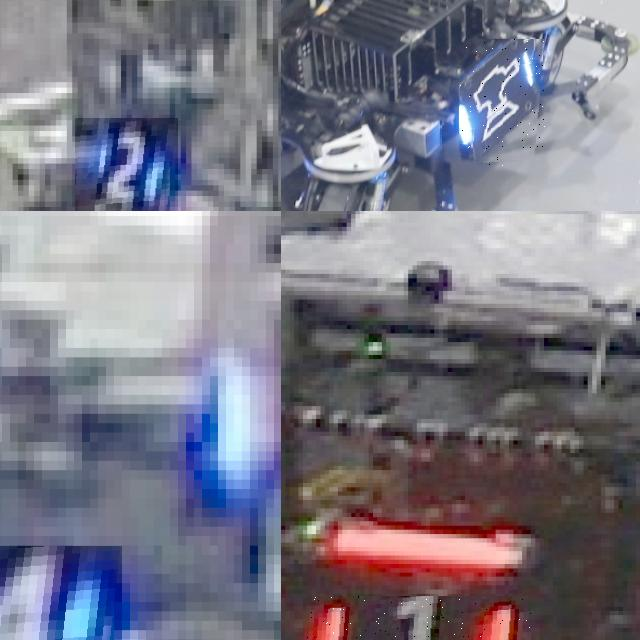B2: (75, 117, 178, 211)
B4: (0, 545, 122, 640)
Bs: (459, 39, 545, 166)
R1: (303, 596, 531, 640)
